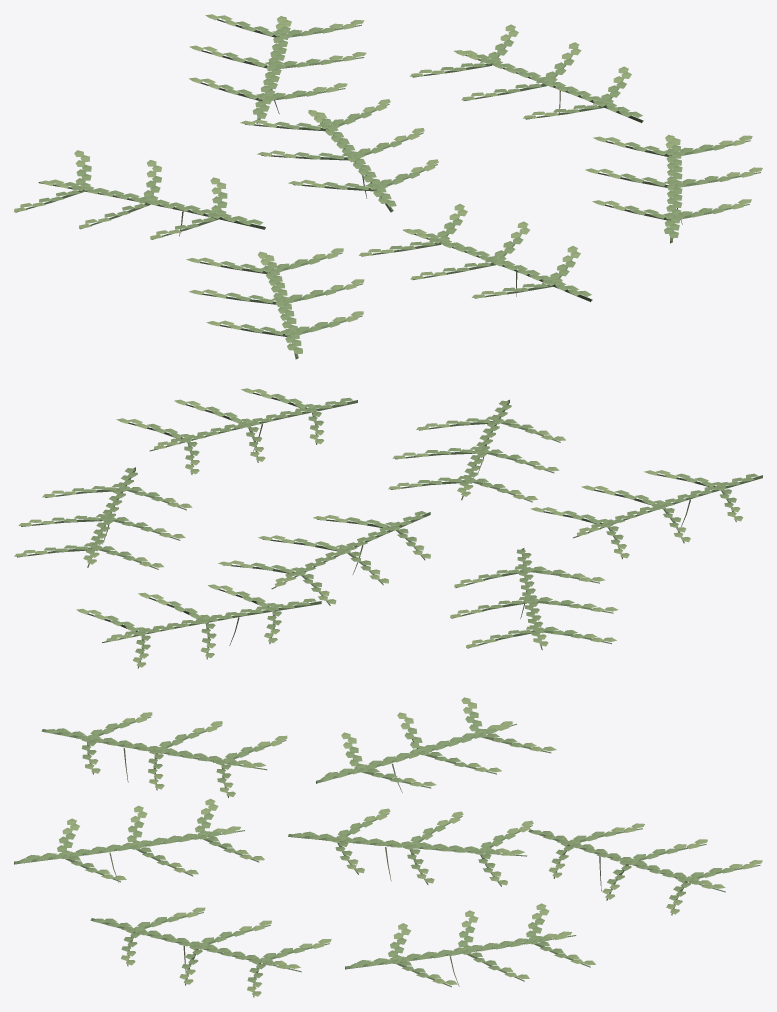
3 views of the same model, one above another, from view 1: azimuth 30°, elevation 25°; view 2: azimuth 150°, elevation 25°; view 3: azimuth 270°, elevation 25° (orthographic). The views are drawn at different scales.
Visible parts, largest first — view 1: two-alternate-ranks-scale-leaves, continuous-creeping-branches; view 2: two-alternate-ranks-scale-leaves, continuous-creeping-branches; view 3: two-alternate-ranks-scale-leaves, continuous-creeping-branches.
Boxes of the visible parts, x1,y1,x2,y2 form: two-alternate-ranks-scale-leaves: (14, 14, 762, 353); continuous-creeping-branches: (15, 17, 760, 359); two-alternate-ranks-scale-leaves: (14, 388, 757, 667); continuous-creeping-branches: (17, 393, 762, 668); two-alternate-ranks-scale-leaves: (19, 697, 762, 996); continuous-creeping-branches: (14, 716, 760, 997).
Bounding box in the file's own units: 0.291 × 0.0161 × 0.3077.
